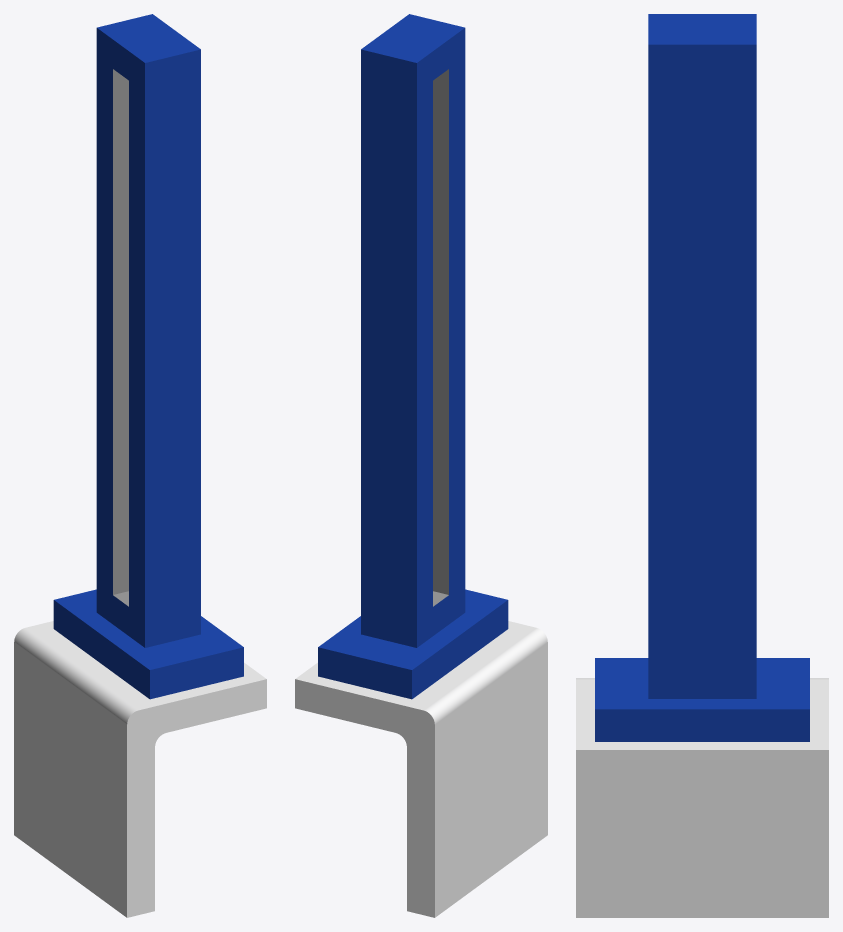
File: Receiver.glb
3 renders of one model, left to right at view 1: azimuth 30°, elevation 25°; view 2: azimuth 150°, elevation 25°; view 3: azimuth 270°, elevation 25°, orthographic. The views are drawn at different scales.
Visible parts, largest first — view 1: Body1; view 2: Body1; view 3: Body1.
Boxes of the visible parts, left/top/right/bottom form: Body1: left=14, top=14, right=266, bottom=917; Body1: left=295, top=14, right=547, bottom=917; Body1: left=576, top=14, right=828, bottom=917.
Size of the model in its own units: 0.025 by 0.14 by 0.035.
